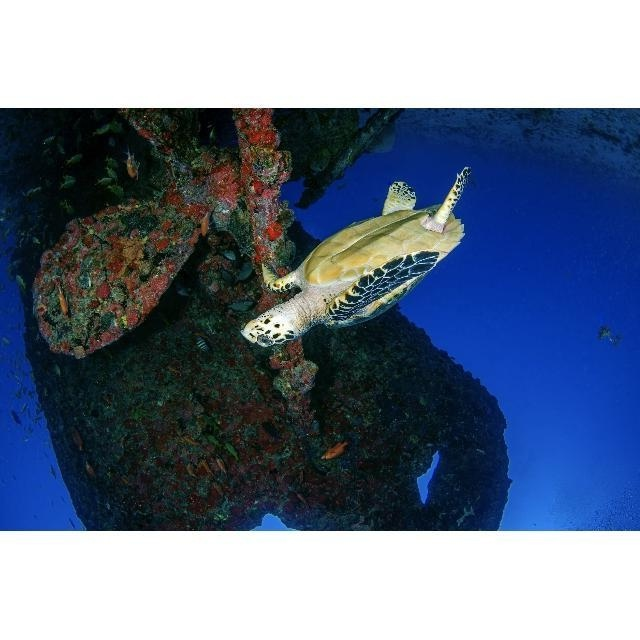turtle: (240, 166, 472, 349)
